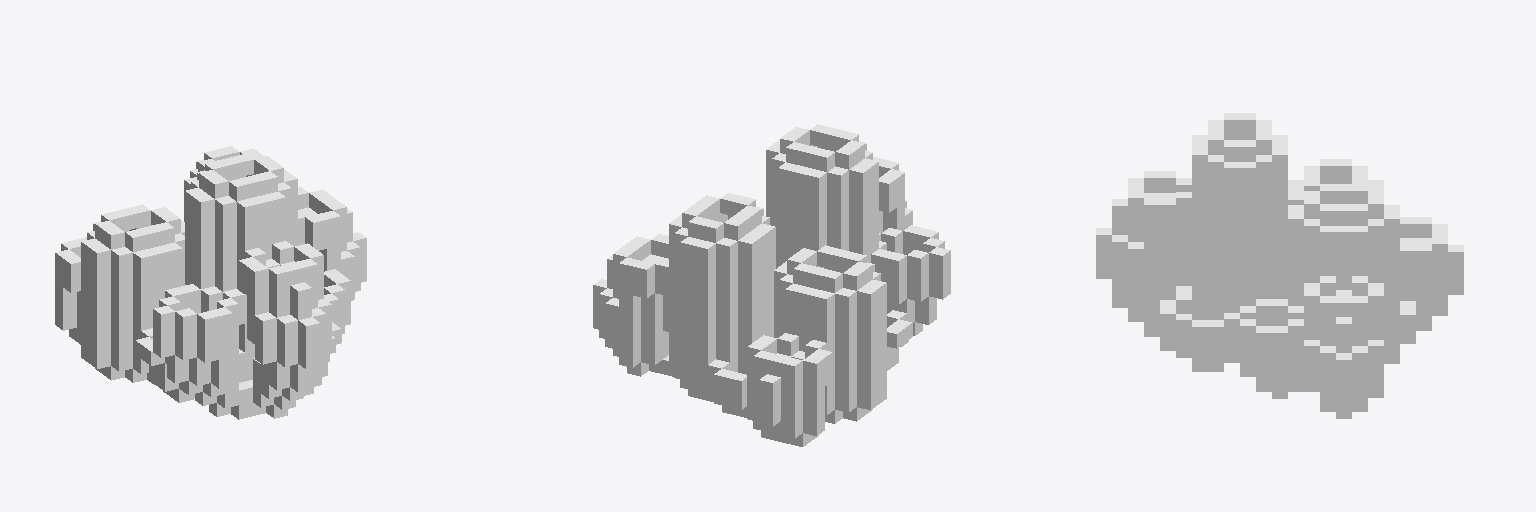
The model's file is BlueTubularCoralMediumCluster-0.obj.
3 renders of one model, left to right at view 1: azimuth 30°, elevation 25°; view 2: azimuth 150°, elevation 25°; view 3: azimuth 270°, elevation 25°, orthographic.
Parts seen in each view (by area): view 1: object 1; view 2: object 1; view 3: object 1.
Part boxes in pixels (x1,y1,x2,y2): object 1: (55,146,366,419); object 1: (593,124,950,446); object 1: (1096,113,1463,418).
Bounding box in the file's own units: 2 × 1.5 × 2.3.